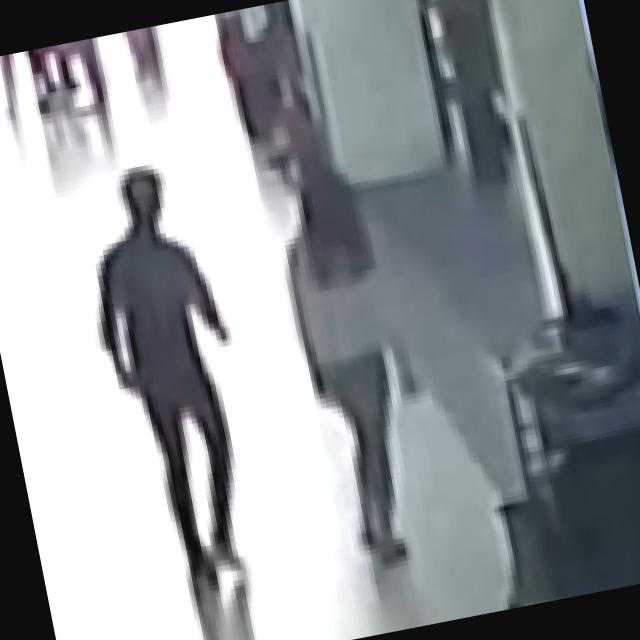person: (69, 155, 278, 602), (260, 137, 438, 578)
